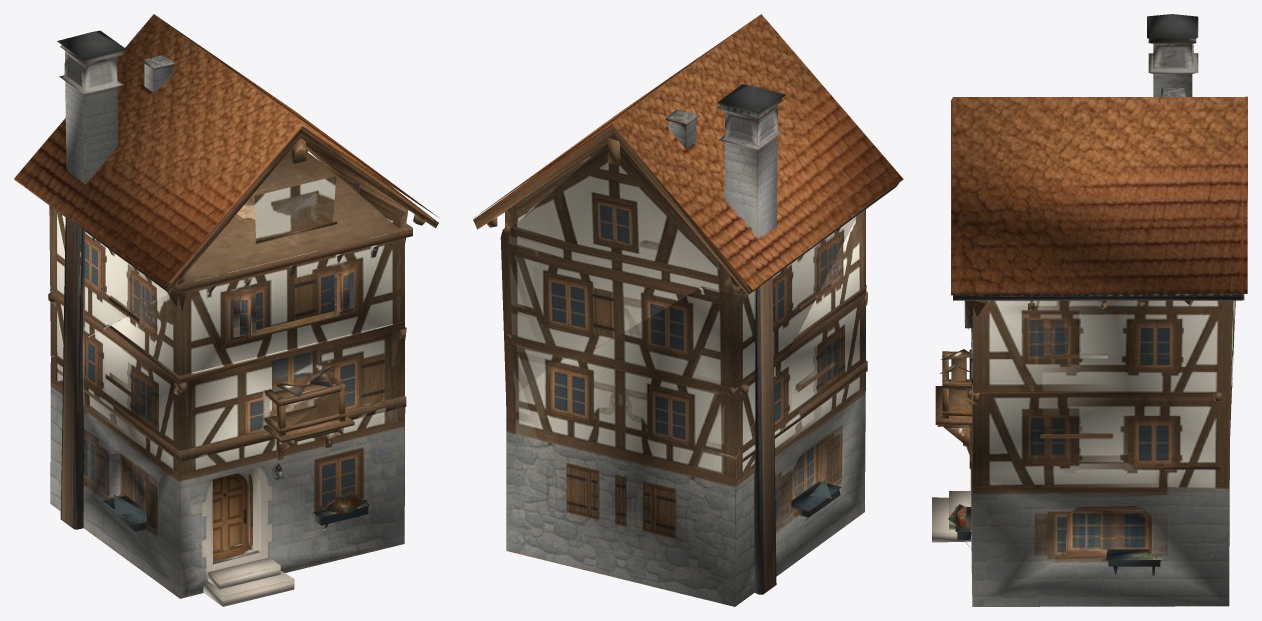
File: building-cottage-03.glb
3 views of the same model, side by side, from view 1: azimuth 30°, elevation 25°; view 2: azimuth 150°, elevation 25°; view 3: azimuth 270°, elevation 25° (orthographic).
Bounding box in the file's own units: 0.5688 × 0.9551 × 0.5586.
1 material, 1 textured.
